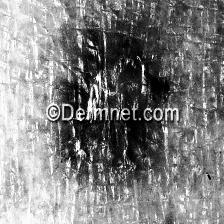Benign Marking or Mole: (66, 36, 159, 160)
